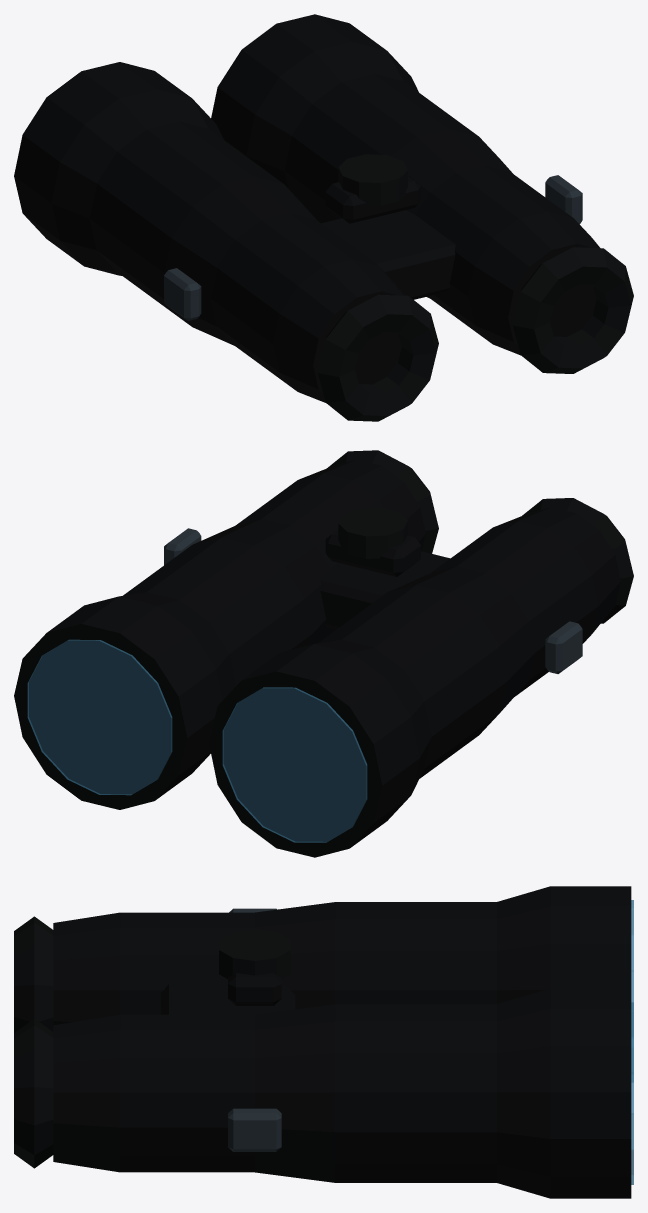
File: ACCESSORY_09_Binoculars.obj
The picture shows the model from 3 angles, top to bottom: view 1: azimuth 30°, elevation 25°; view 2: azimuth 150°, elevation 25°; view 3: azimuth 270°, elevation 25°; orthographic projection. The views are drawn at different scales.
Parts seen in each view (by area): view 1: ACCESSORY_09_Binoculars_Barrel_L, ACCESSORY_09_Binoculars_Barrel_R, ACCESSORY_09_Binoculars_Eyecups, ACCESSORY_09_Binoculars_Bridge, ACCESSORY_09_Binoculars_Focus_Wheel, ACCESSORY_09_Binoculars_Strap_Lugs; view 2: ACCESSORY_09_Binoculars_Barrel_L, ACCESSORY_09_Binoculars_Barrel_R, ACCESSORY_09_Binoculars_Objective_Lenses, ACCESSORY_09_Binoculars_Bridge, ACCESSORY_09_Binoculars_Eyecups, ACCESSORY_09_Binoculars_Focus_Wheel, ACCESSORY_09_Binoculars_Strap_Lugs; view 3: ACCESSORY_09_Binoculars_Barrel_R, ACCESSORY_09_Binoculars_Barrel_L, ACCESSORY_09_Binoculars_Eyecups, ACCESSORY_09_Binoculars_Bridge, ACCESSORY_09_Binoculars_Focus_Wheel, ACCESSORY_09_Binoculars_Strap_Lugs, ACCESSORY_09_Binoculars_Objective_Lenses.
Part boxes in pixels (x1,y1,x2,y2): ACCESSORY_09_Binoculars_Barrel_L: (14,62,404,402); ACCESSORY_09_Binoculars_Barrel_R: (211,14,599,355); ACCESSORY_09_Binoculars_Eyecups: (317,247,633,421); ACCESSORY_09_Binoculars_Bridge: (321,176,455,299); ACCESSORY_09_Binoculars_Focus_Wheel: (338,154,407,205); ACCESSORY_09_Binoculars_Strap_Lugs: (164,175,582,320); ACCESSORY_09_Binoculars_Barrel_L: (209,507,620,857); ACCESSORY_09_Binoculars_Barrel_R: (14,459,425,809); ACCESSORY_09_Binoculars_Objective_Lenses: (27,639,367,842); ACCESSORY_09_Binoculars_Bridge: (320,530,450,629); ACCESSORY_09_Binoculars_Eyecups: (327,450,633,623); ACCESSORY_09_Binoculars_Focus_Wheel: (338,507,407,558); ACCESSORY_09_Binoculars_Strap_Lugs: (164,528,582,673); ACCESSORY_09_Binoculars_Barrel_R: (53,988,631,1198); ACCESSORY_09_Binoculars_Barrel_L: (53,886,631,1025); ACCESSORY_09_Binoculars_Eyecups: (14,916,53,1168); ACCESSORY_09_Binoculars_Bridge: (160,973,295,1014); ACCESSORY_09_Binoculars_Focus_Wheel: (219,929,290,979); ACCESSORY_09_Binoculars_Strap_Lugs: (228,908,281,1151); ACCESSORY_09_Binoculars_Objective_Lenses: (631,900,633,1184).
Bounding box in the file's own units: 0.184 × 0.079 × 0.2306.
